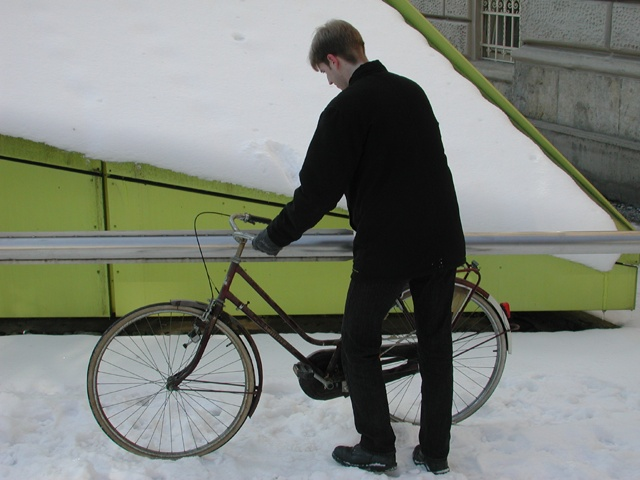person: (285, 19, 459, 475)
